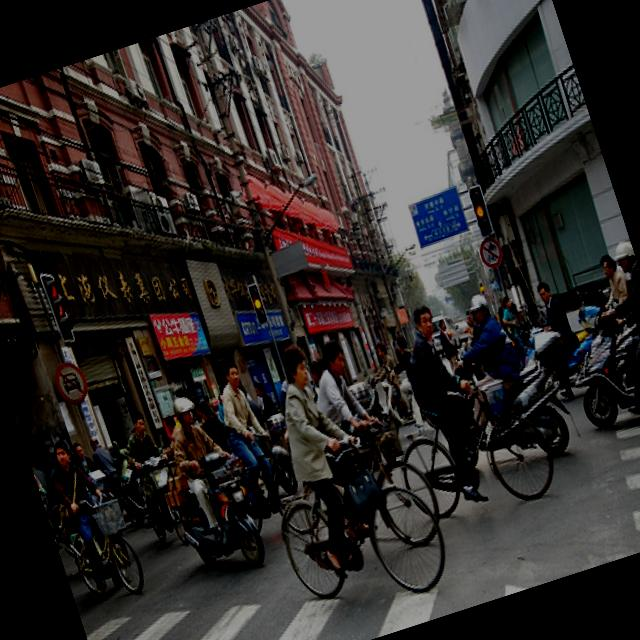Vehicle: (453, 327, 598, 473), (164, 448, 270, 588), (572, 342, 640, 440), (555, 323, 612, 388), (602, 312, 640, 388), (115, 465, 155, 530), (566, 367, 584, 388)
